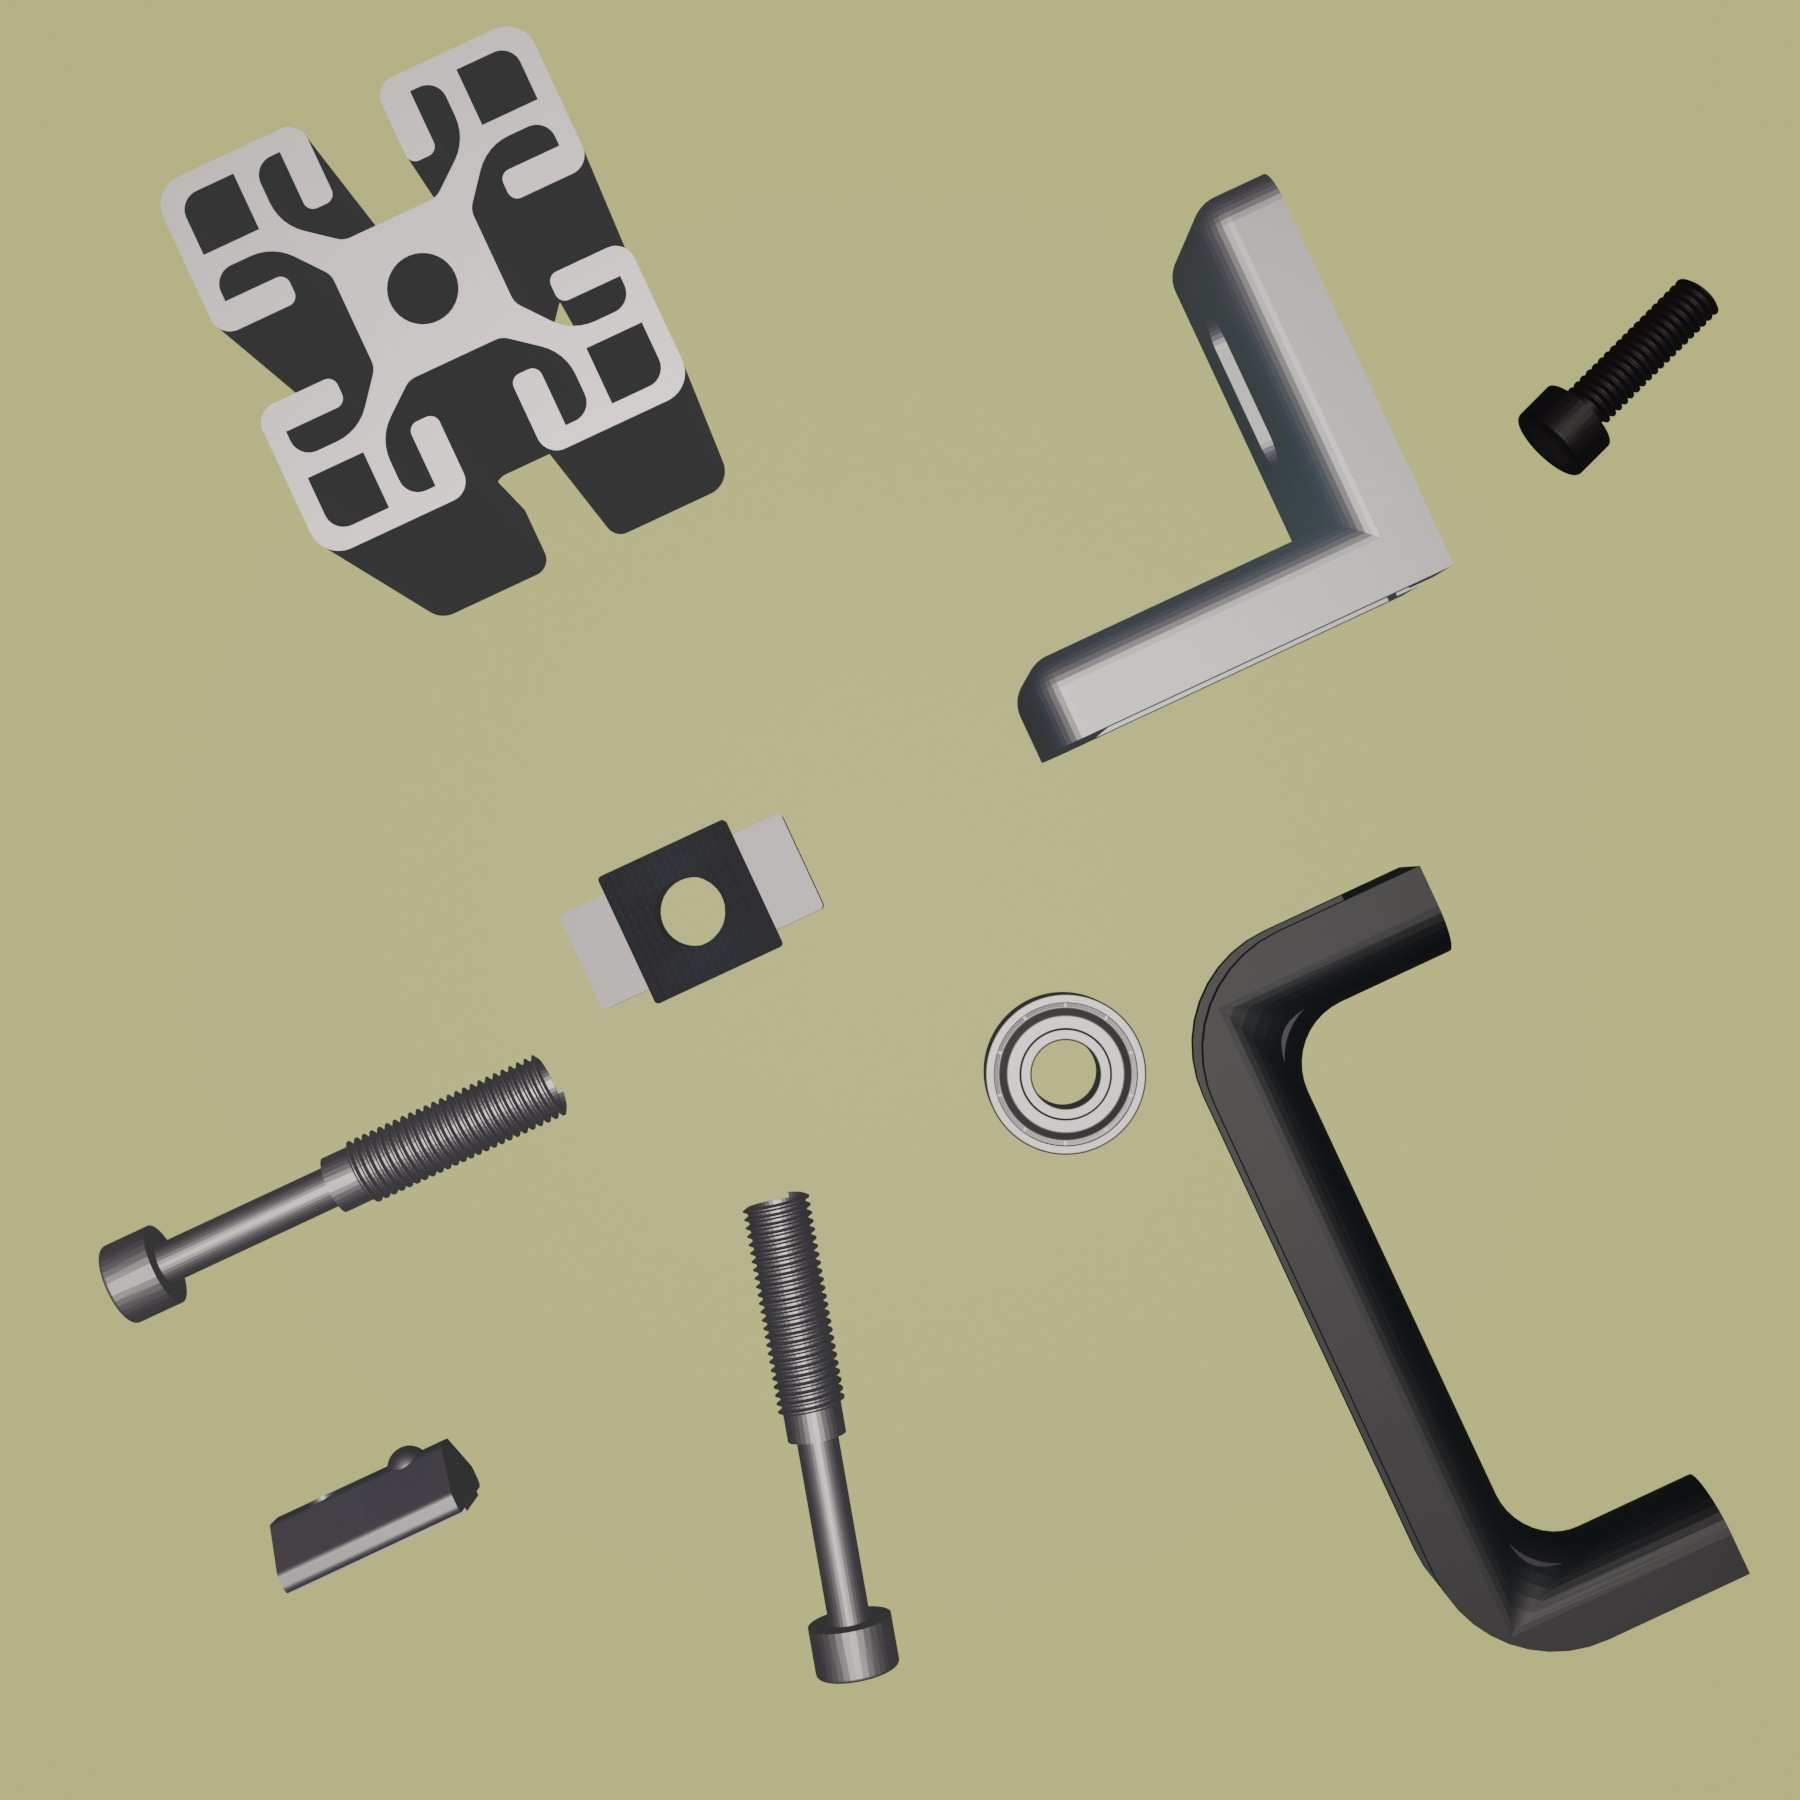Aluminium Extension: (155, 21, 727, 620)
Ball Bearing: (982, 989, 1147, 1159)
Multiwinkel: (1015, 171, 1459, 765)
Pull Handle: (1188, 864, 1752, 1653)
Shoulder Socket Head Cap Screw: (97, 1052, 570, 1325), (740, 1188, 902, 1685)
Socket Head Cap Screw: (1516, 279, 1719, 478)
T Nut Square: (554, 809, 827, 1015)
T Spring Nut: (267, 1436, 481, 1596)
